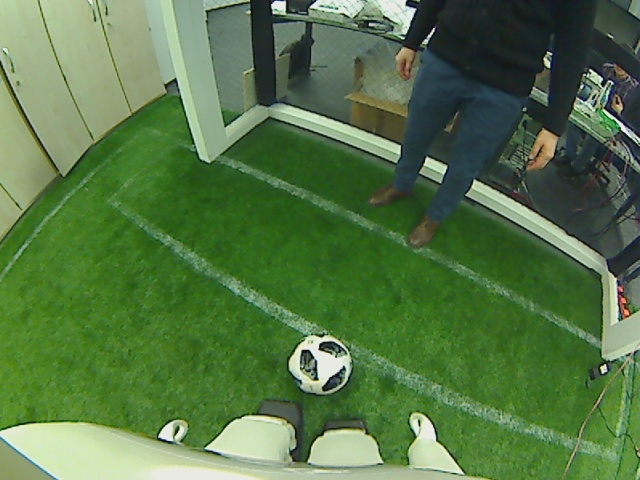ball: (289, 331, 354, 396)
